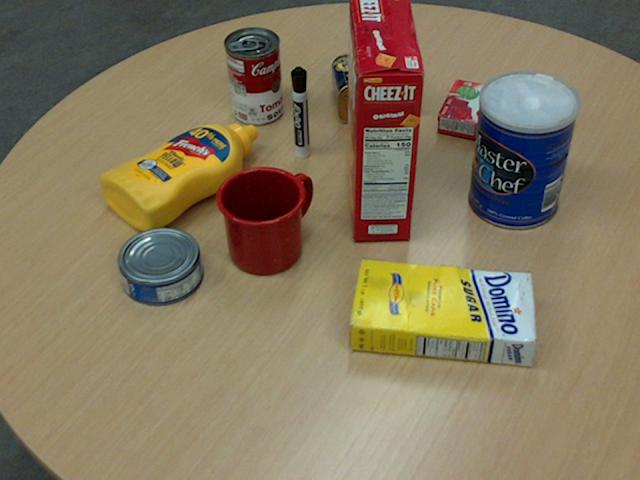cracker_box: (343, 0, 422, 239)
gelatin_box: (436, 77, 510, 142)
large_marker: (290, 66, 307, 158)
master_chef_can: (468, 71, 578, 230)
mug: (214, 165, 311, 274)
mustard_bottle: (98, 122, 257, 230)
potted_meat_can: (331, 49, 417, 122)
sugar_box: (348, 260, 536, 367)
tomato_soup_can: (224, 25, 282, 123)
tuna_fish_can: (115, 226, 201, 305)
